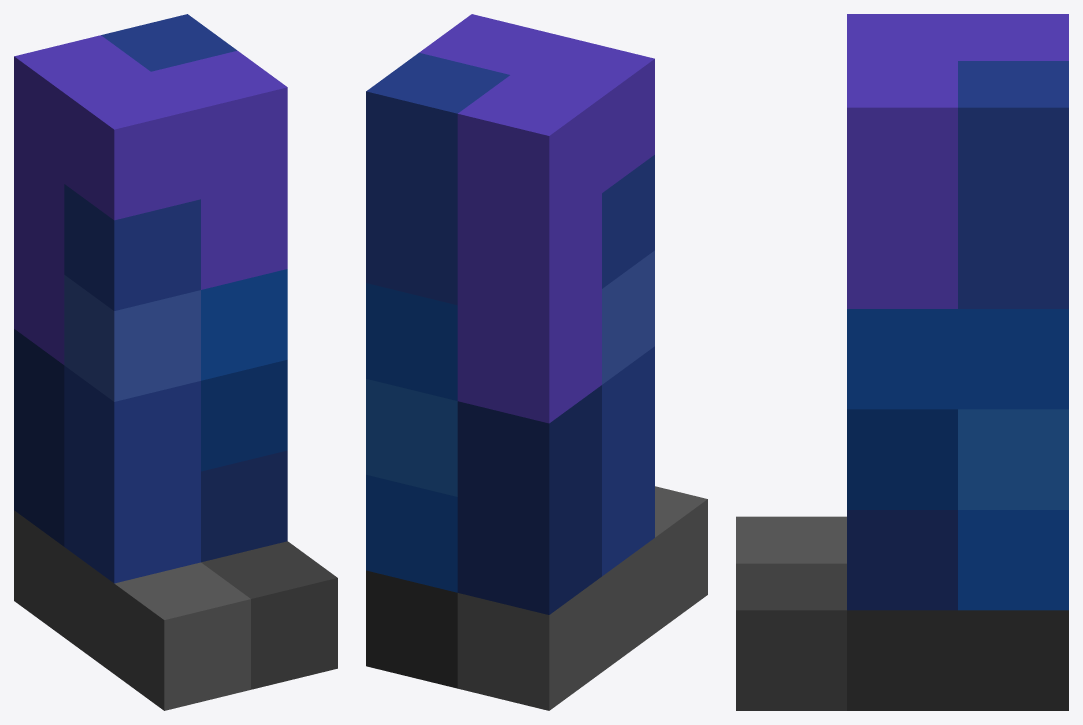
The model's file is Leg.fbx.
3 views of the same model, side by side, from view 1: azimuth 30°, elevation 25°; view 2: azimuth 150°, elevation 25°; view 3: azimuth 270°, elevation 25° (orthographic). The views are drawn at different scales.
Visible parts, largest first — view 1: Cube.005; view 2: Cube.005; view 3: Cube.005.
Part boxes in pixels (bbox=[...]): Cube.005: bbox=[14, 14, 337, 710]; Cube.005: bbox=[366, 14, 707, 710]; Cube.005: bbox=[736, 14, 1068, 710].
Size of the model in its own units: 200 by 600 by 300.
